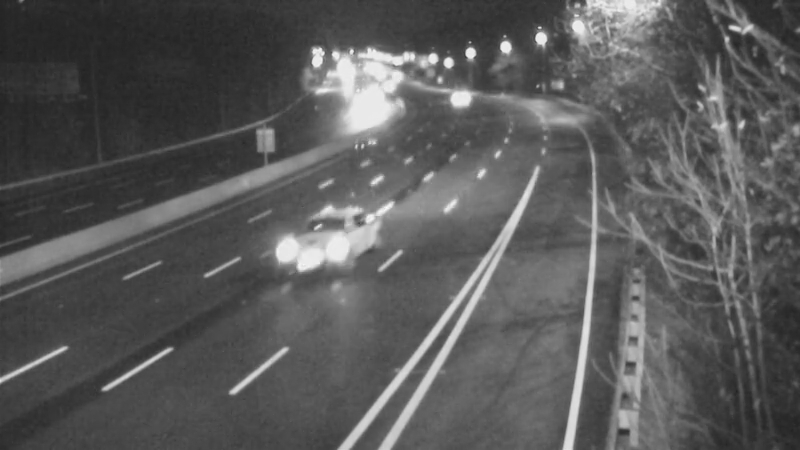vehicle: (272, 210, 352, 290), (434, 76, 484, 126), (337, 79, 387, 129)
